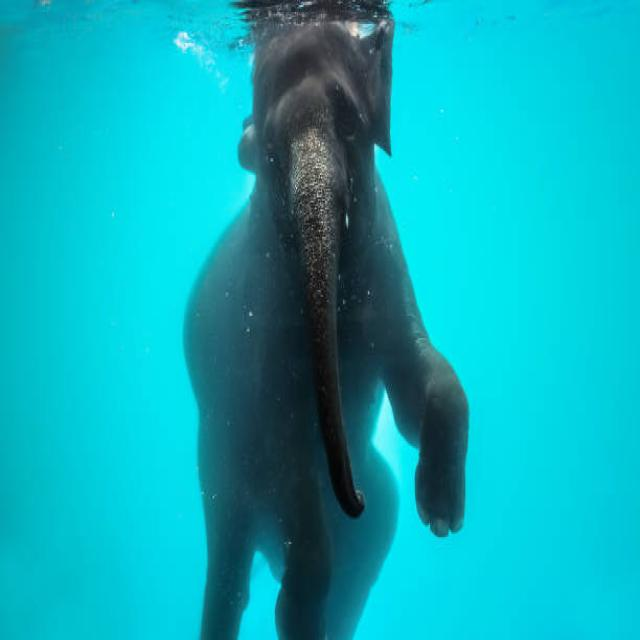Elephant: (183, 4, 472, 630)
